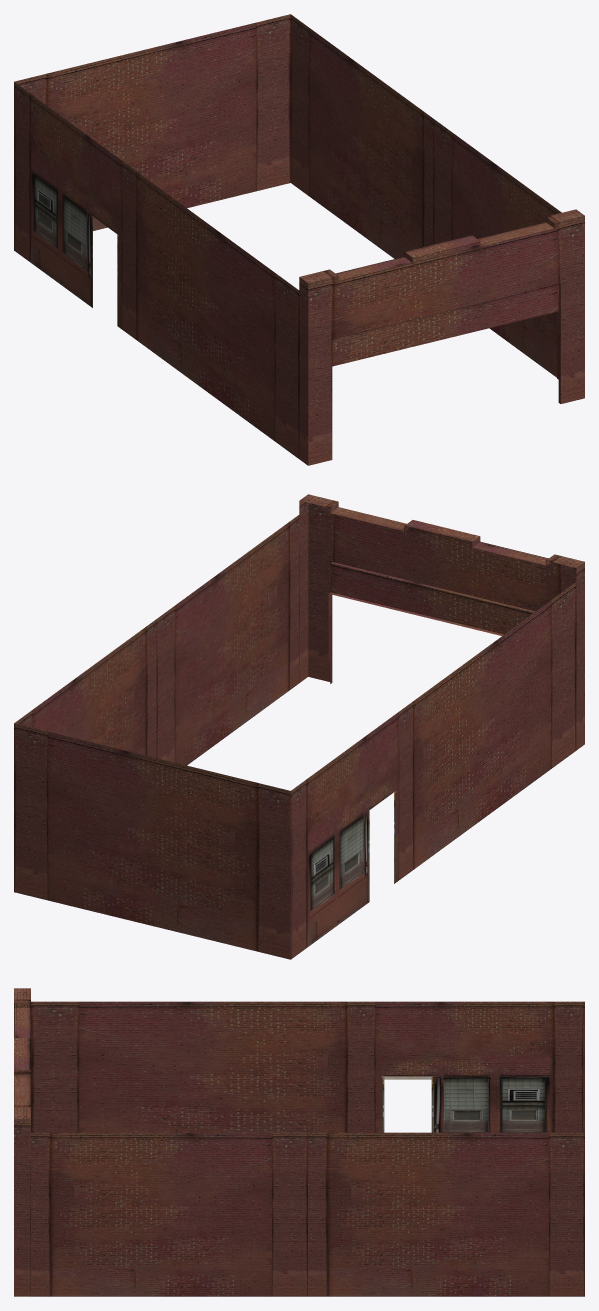
Rendered from rural_storesmall_5_rural_brownstone_facade_flr_6_0_lev2.glb.
3 views of the same model, one above another, from view 1: azimuth 30°, elevation 25°; view 2: azimuth 150°, elevation 25°; view 3: azimuth 270°, elevation 25° (orthographic). The views are drawn at different scales.
Visible parts, largest first — view 1: rural_storesmall_5_rural_brownstone_facade_flr_6_0_lev2; view 2: rural_storesmall_5_rural_brownstone_facade_flr_6_0_lev2; view 3: rural_storesmall_5_rural_brownstone_facade_flr_6_0_lev2.
Part boxes in pixels (x1,y1,x2,y2): rural_storesmall_5_rural_brownstone_facade_flr_6_0_lev2: (14,14,584,465); rural_storesmall_5_rural_brownstone_facade_flr_6_0_lev2: (14,494,584,959); rural_storesmall_5_rural_brownstone_facade_flr_6_0_lev2: (14,988,584,1296).
Size of the model in its own units: 7.71 by 4.86 by 14.2.
1 material, 1 textured.
